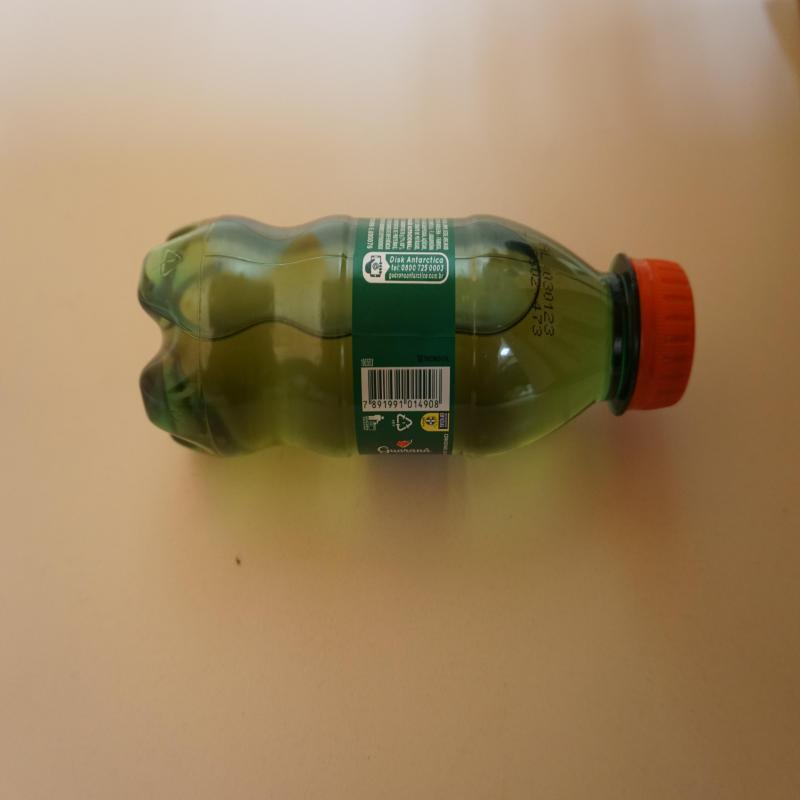Guarana: (139, 215, 694, 459)
